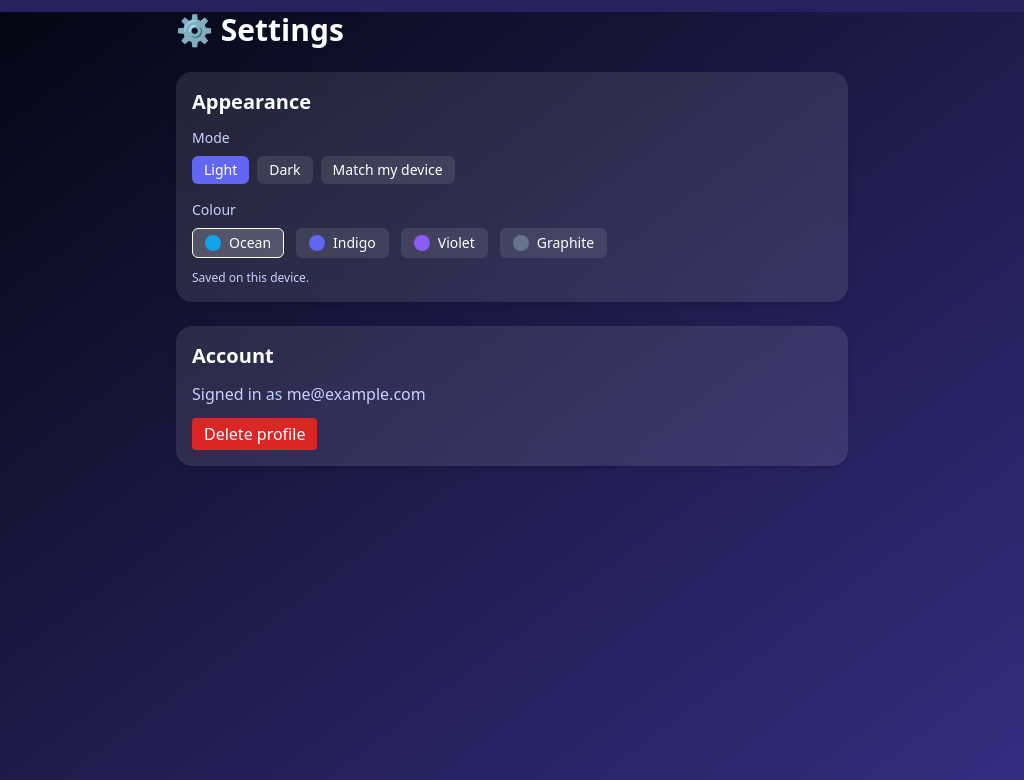
Test: Settings page › deleting the profile › shows the server's reason and stays signed in if it fails
This screenshot has width=1024, height=780.
Click the button "Delete profile" at (255, 434), box left=192, top=418, right=317, bottom=450
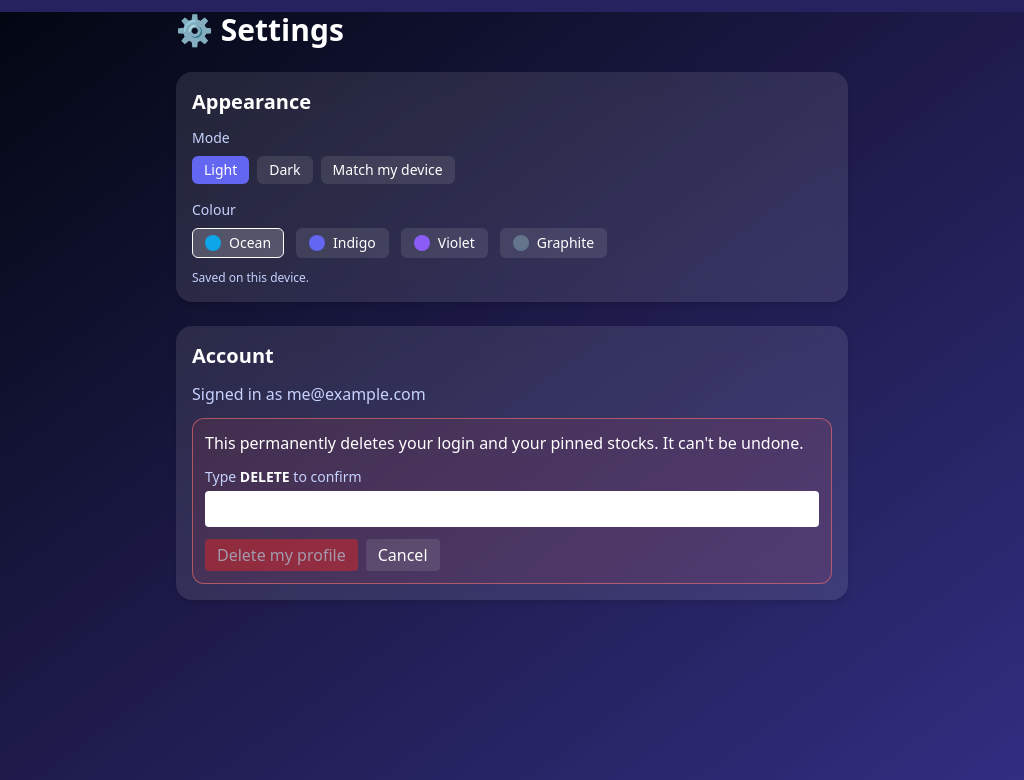
Type "DELETE" into the field at (512, 509), box left=205, top=491, right=819, bottom=527
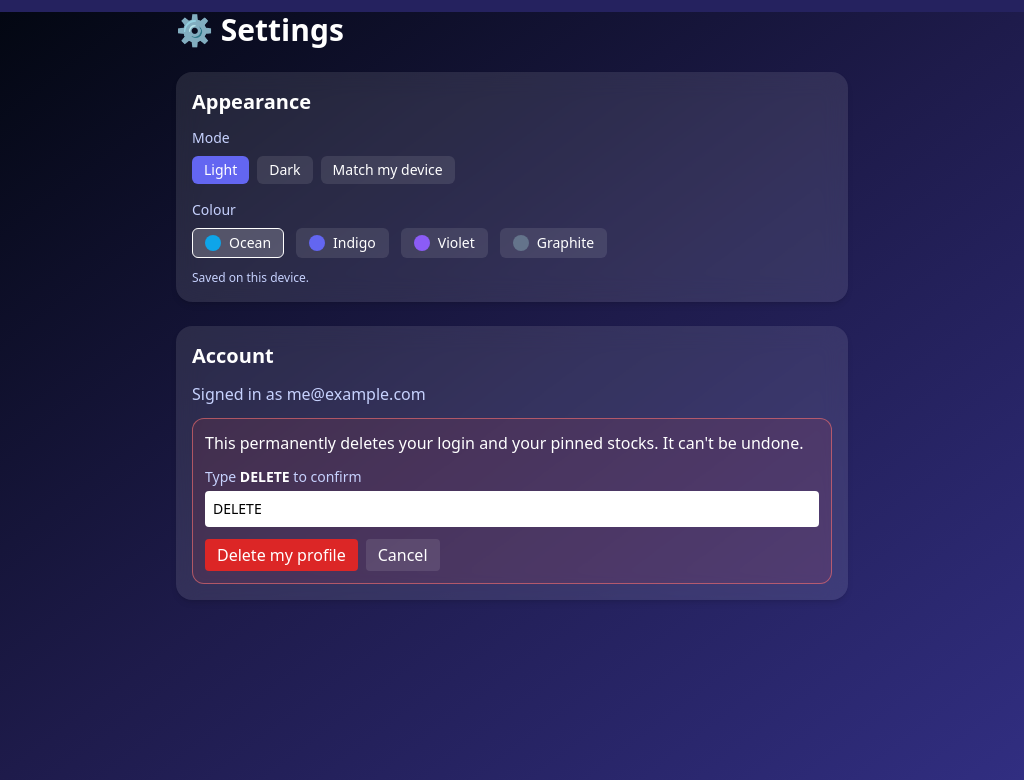
Click the button "Delete my profile" at (281, 555), box left=205, top=539, right=358, bottom=571
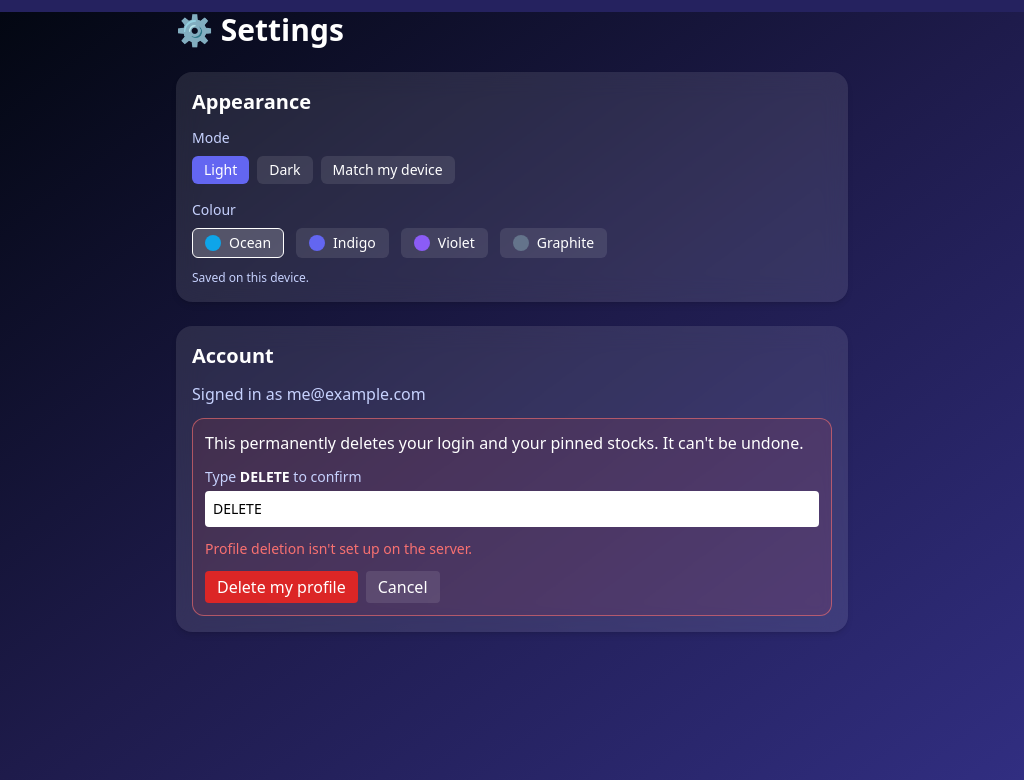
Expected: the button "Delete my profile" is enabled, left=205, top=571, right=358, bottom=603
Expected: the text "Profile deletion isn't set up on the server." is shown, left=205, top=539, right=472, bottom=558
